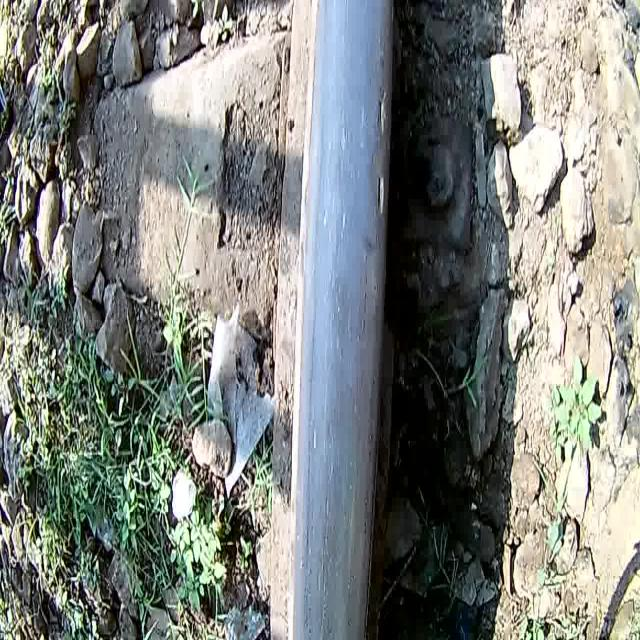Grooves: (316, 476, 332, 640), (357, 244, 370, 355)
Shellings: (360, 395, 383, 640), (294, 221, 312, 486), (302, 0, 322, 215), (300, 488, 312, 640)
Spallings: (374, 83, 389, 134), (374, 170, 386, 220)
Squats: (358, 226, 384, 260), (374, 18, 389, 76)
